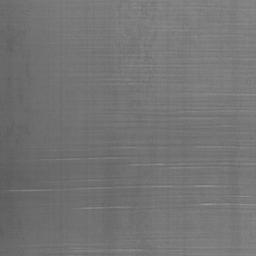Waist folding: (0, 105, 256, 211), (107, 53, 256, 121), (117, 4, 256, 26), (21, 242, 256, 254)
